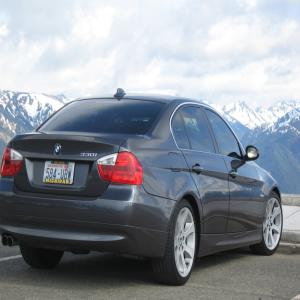Vehicle-registration-plate: (42, 164, 72, 191)
